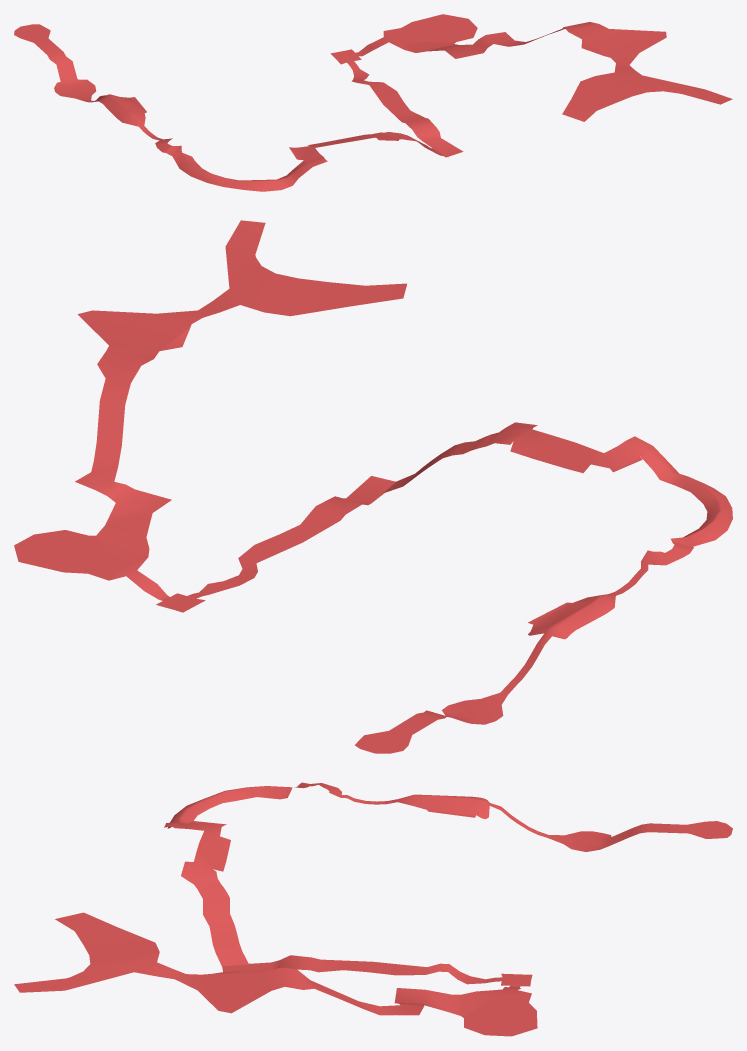
File: S_Bsp_Terrain_5001.FBX
3 views of the same model, one above another, from view 1: azimuth 30°, elevation 25°; view 2: azimuth 150°, elevation 25°; view 3: azimuth 270°, elevation 25° (orthographic). The views are drawn at different scales.
Visible parts, largest first — view 1: S_Bsp_Terrain_5001; view 2: S_Bsp_Terrain_5001; view 3: S_Bsp_Terrain_5001.
Boxes of the visible parts, x1=… form: S_Bsp_Terrain_5001: x1=14, y1=14, x2=732, y2=191; S_Bsp_Terrain_5001: x1=14, y1=220, x2=732, y2=753; S_Bsp_Terrain_5001: x1=14, y1=782, x2=732, y2=1036.
Bounding box in the file's own units: 38725 × 5948 × 44384.
